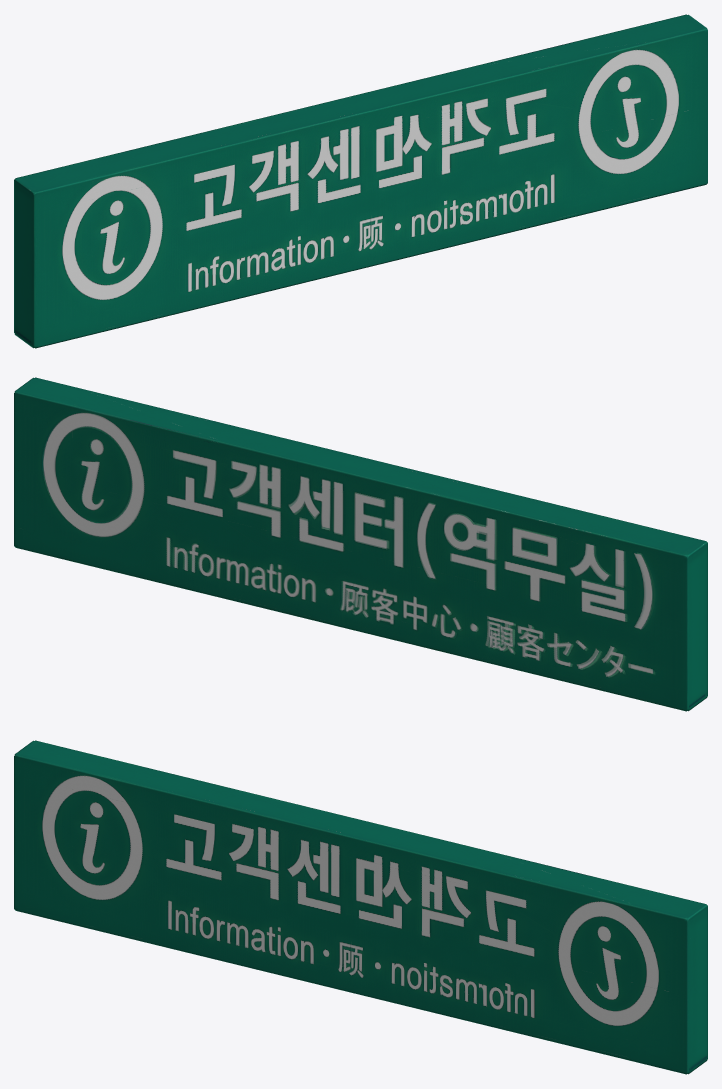
Rendered from Meshy_AI_Dalbit_Manjo_in_Korea_0519025738_texture.fbx.
3 views of the same model, one above another, from view 1: azimuth 30°, elevation 25°; view 2: azimuth 150°, elevation 25°; view 3: azimuth 330°, elevation 25° (orthographic).
Visible parts, largest first — view 1: Mesh_0; view 2: Mesh_0; view 3: Mesh_0.
Part boxes in pixels (bbox=[...]): Mesh_0: bbox=[14, 14, 707, 348]; Mesh_0: bbox=[14, 377, 707, 711]; Mesh_0: bbox=[14, 740, 707, 1074].
Bounding box in the file's own units: 190 × 41.88 × 9.78.
Materials: 1 (1 with a texture image).
